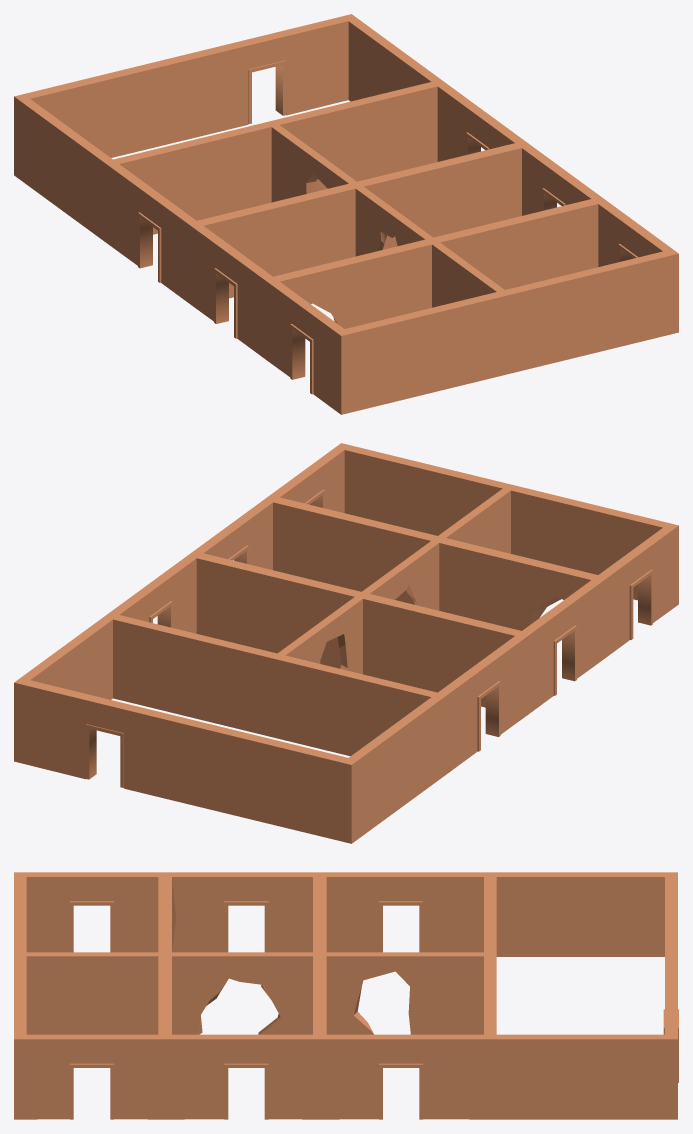
Rendered from QuartoCentralLow.fbx.
The picture shows the model from 3 angles, top to bottom: view 1: azimuth 30°, elevation 25°; view 2: azimuth 150°, elevation 25°; view 3: azimuth 270°, elevation 25°; orthographic projection.
Visible parts, largest first — view 1: QuartoCentral.001; view 2: QuartoCentral.001; view 3: QuartoCentral.001.
Part boxes in pixels (bbox=[...]): QuartoCentral.001: bbox=[14, 14, 678, 414]; QuartoCentral.001: bbox=[14, 443, 678, 843]; QuartoCentral.001: bbox=[14, 872, 678, 1119].
Bounding box in the file's own units: 1809 × 402 × 3011.
